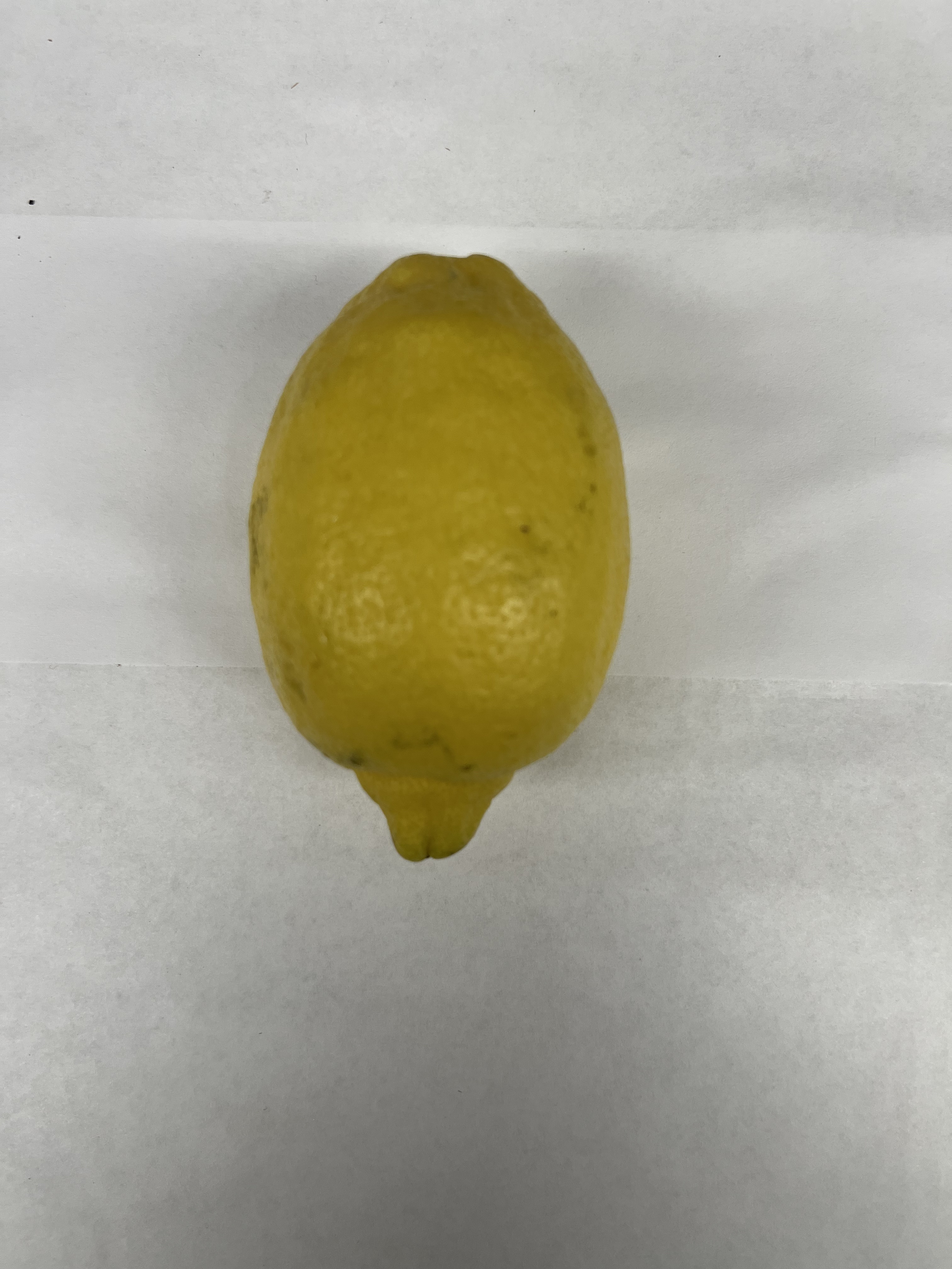produce: (241, 249, 641, 868)
